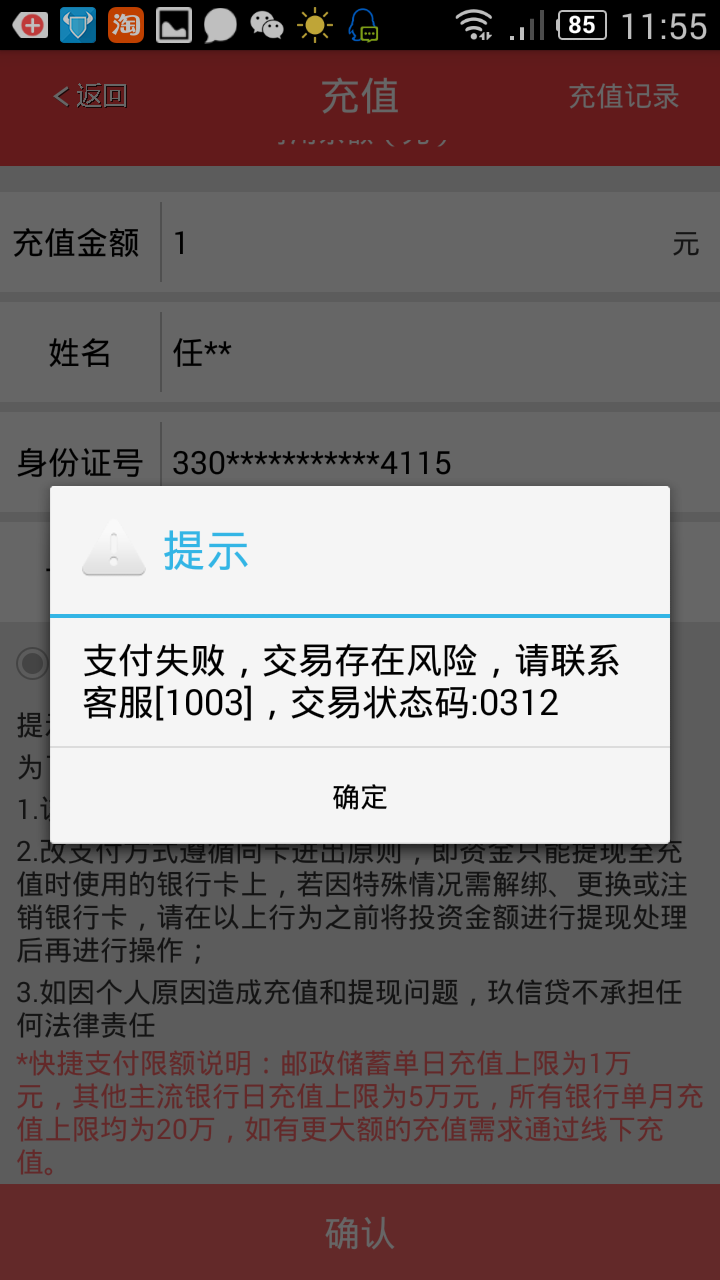alert: (45, 481, 674, 852)
button: (44, 735, 674, 852)
textview: (73, 631, 636, 729)
